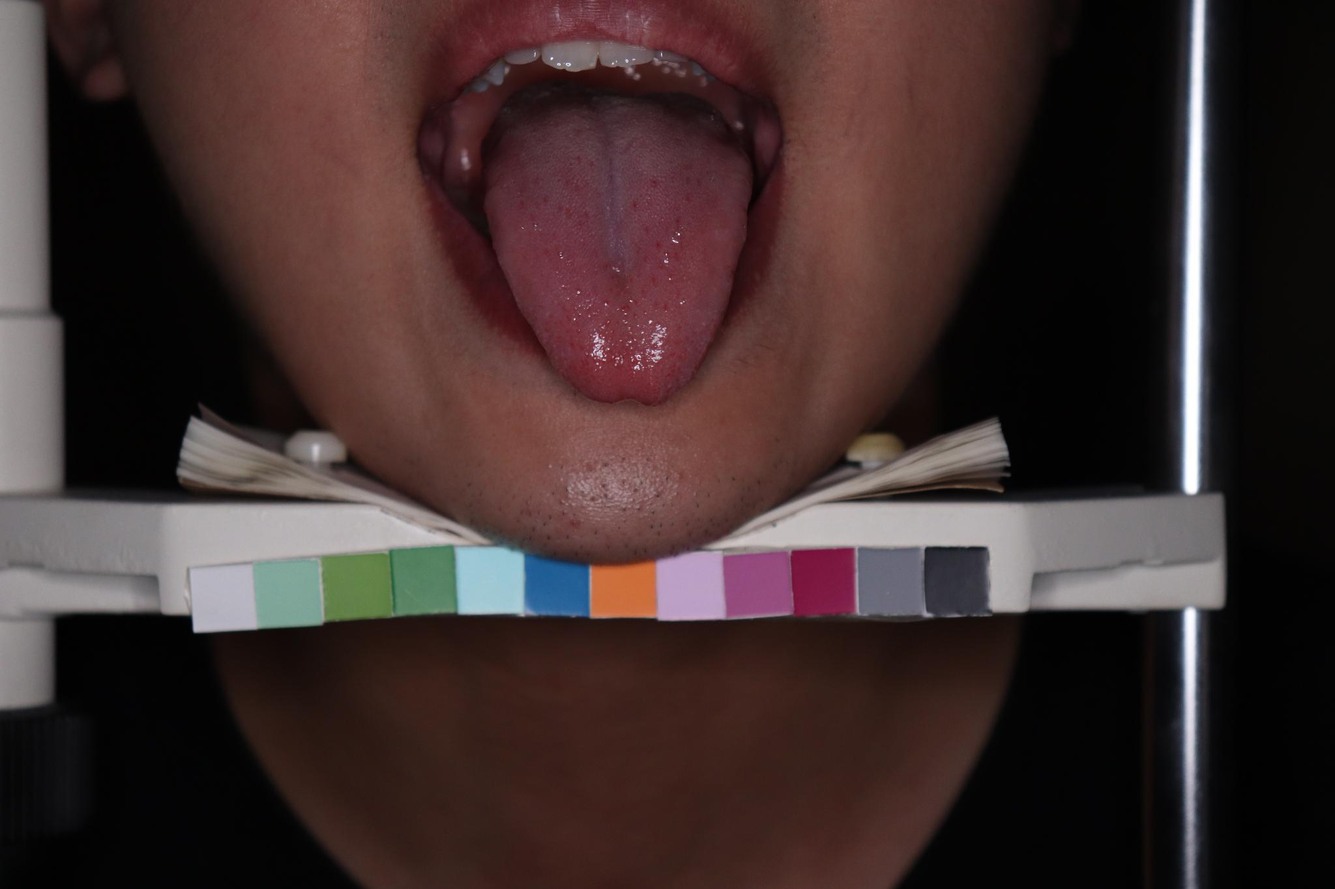baitaishe: (480, 89, 752, 407)
hongdianshe: (653, 239, 663, 252), (662, 301, 671, 311), (649, 177, 658, 186), (601, 298, 609, 307), (632, 199, 638, 210), (619, 305, 627, 313)
hongshe: (480, 89, 752, 407)
xinfeiao: (598, 386, 656, 408)
